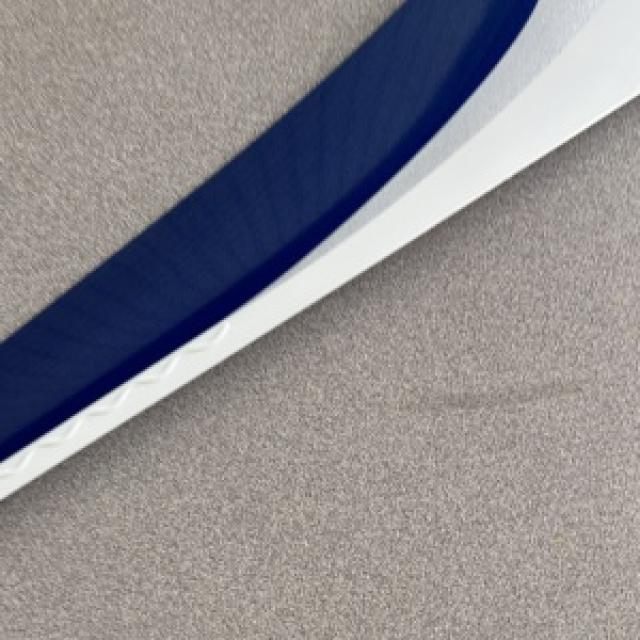healthy: (0, 96, 638, 638)
